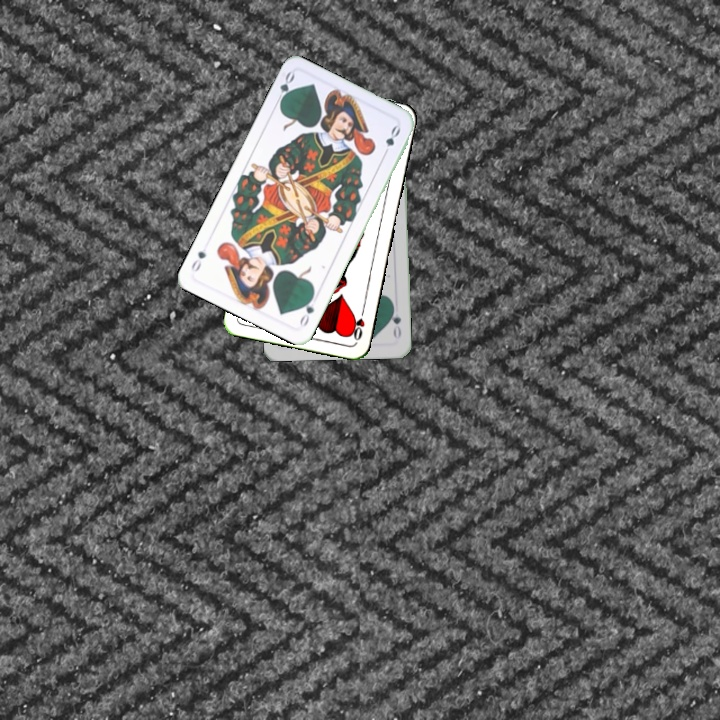GO: (272, 68, 297, 108), (295, 290, 317, 329), (387, 302, 404, 341)
HO: (347, 304, 367, 343)
